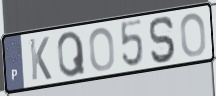5: (119, 17, 145, 71)
K: (28, 35, 53, 83)
O: (179, 11, 208, 59), (88, 26, 116, 73)
Q: (56, 29, 87, 79)
S: (148, 15, 178, 65)
